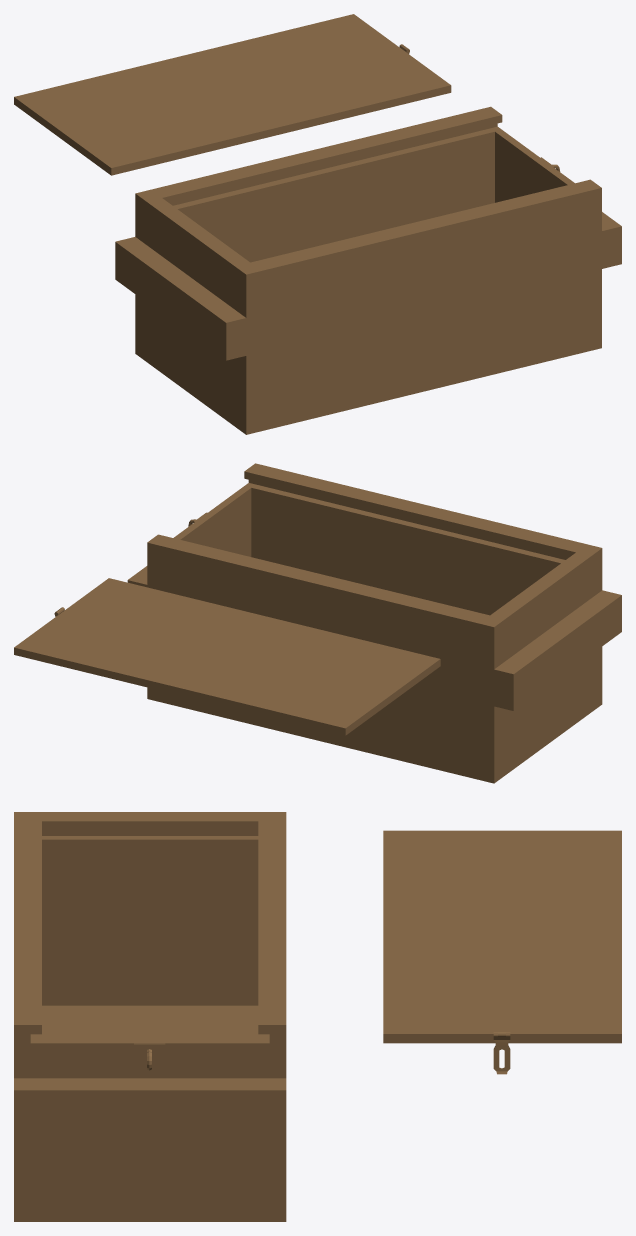
Rendered from wip_box_2.glb.
3 renders of one model, top to bottom at view 1: azimuth 30°, elevation 25°; view 2: azimuth 150°, elevation 25°; view 3: azimuth 270°, elevation 25°, orthographic. The views are drawn at different scales.
Visible parts, largest first — view 1: product-1282bed7-84c2-451d-8fcc-8a09d54844eb-body, product-e035d77c-a923-4f9c-ab70-3d7cb6185cd7-body; view 2: product-1282bed7-84c2-451d-8fcc-8a09d54844eb-body, product-e035d77c-a923-4f9c-ab70-3d7cb6185cd7-body; view 3: product-1282bed7-84c2-451d-8fcc-8a09d54844eb-body, product-e035d77c-a923-4f9c-ab70-3d7cb6185cd7-body, product-8337fb9e-667a-45b0-9821-8b44bef4018b-body.
Boxes of the visible parts, left/top/right/bottom form: product-1282bed7-84c2-451d-8fcc-8a09d54844eb-body: left=115, top=106, right=621, bottom=434; product-e035d77c-a923-4f9c-ab70-3d7cb6185cd7-body: left=14, top=14, right=451, bottom=175; product-1282bed7-84c2-451d-8fcc-8a09d54844eb-body: left=127, top=463, right=621, bottom=783; product-e035d77c-a923-4f9c-ab70-3d7cb6185cd7-body: left=14, top=578, right=440, bottom=735; product-1282bed7-84c2-451d-8fcc-8a09d54844eb-body: left=14, top=812, right=286, bottom=1221; product-e035d77c-a923-4f9c-ab70-3d7cb6185cd7-body: left=383, top=830, right=621, bottom=1043; product-8337fb9e-667a-45b0-9821-8b44bef4018b-body: left=493, top=1032, right=510, bottom=1074.
Bounding box in the file's own units: 0.3104 × 0.1201 × 0.3365.
